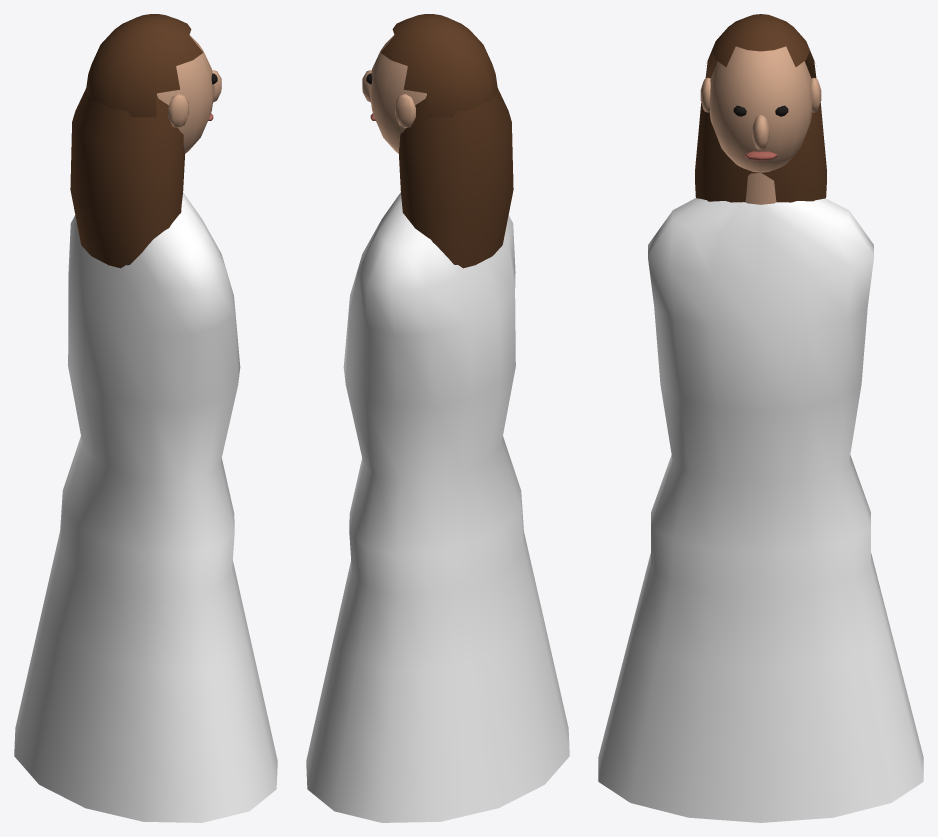
File: body_woman.obj
3 views of the same model, side by side, from view 1: azimuth 30°, elevation 25°; view 2: azimuth 150°, elevation 25°; view 3: azimuth 270°, elevation 25° (orthographic).
Visible parts, largest first — view 1: body_woman_CoatPaint, body_woman_HairBrown, body_woman_Skin; view 2: body_woman_CoatPaint, body_woman_HairBrown, body_woman_Skin; view 3: body_woman_CoatPaint, body_woman_Skin, body_woman_HairBrown.
Part boxes in pixels (x1,y1,x2,y2): body_woman_CoatPaint: (14, 192, 277, 822); body_woman_HairBrown: (70, 14, 203, 268); body_woman_Skin: (157, 35, 221, 153); body_woman_CoatPaint: (306, 192, 569, 822); body_woman_HairBrown: (380, 14, 513, 268); body_woman_Skin: (362, 35, 426, 153); body_woman_CoatPaint: (598, 198, 923, 822); body_woman_Skin: (700, 46, 821, 204); body_woman_HairBrown: (695, 14, 826, 202).
Size of the model in its own units: 0.39 by 1.36 by 0.505.
5 materials, 5 textured.
